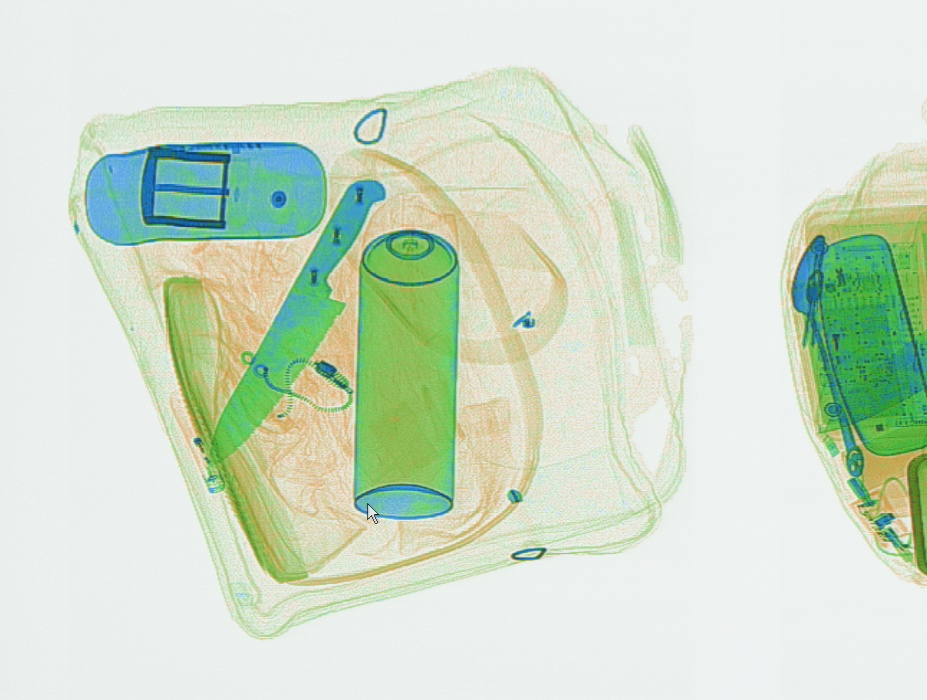knife: (201, 171, 388, 485)
lighter: (154, 385, 226, 496)
pressure: (350, 215, 460, 520)
